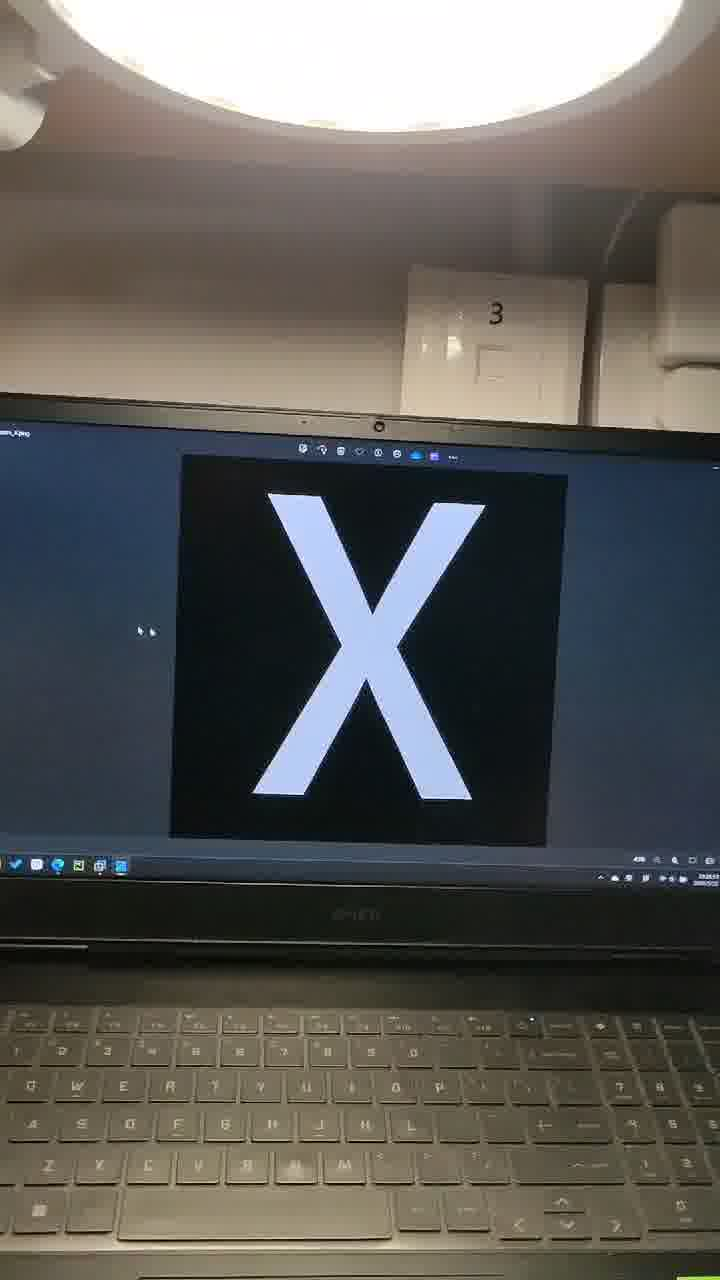X: (204, 415, 557, 876)
